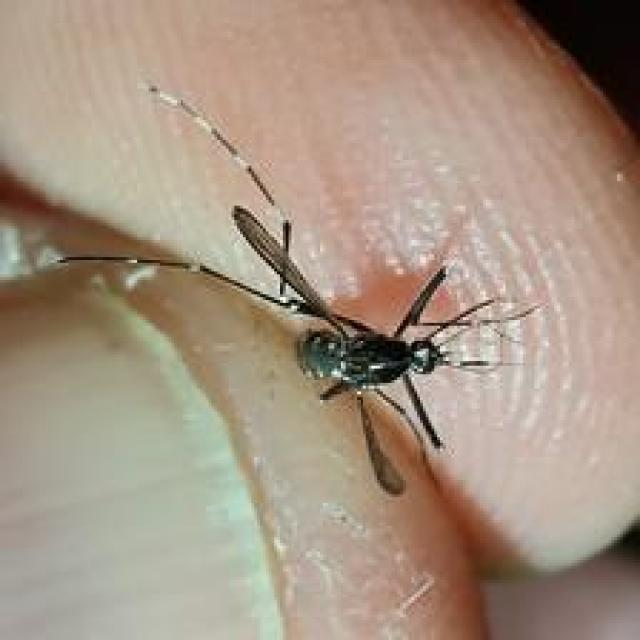Aedes albopictus: (56, 80, 541, 497)
